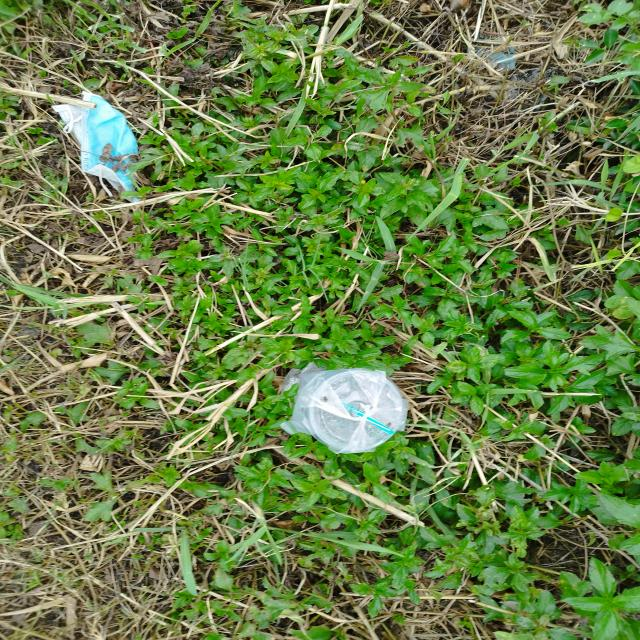drinking straw: (343, 404, 394, 434)
mask: (51, 90, 140, 194)
trash bag: (284, 368, 408, 451)
